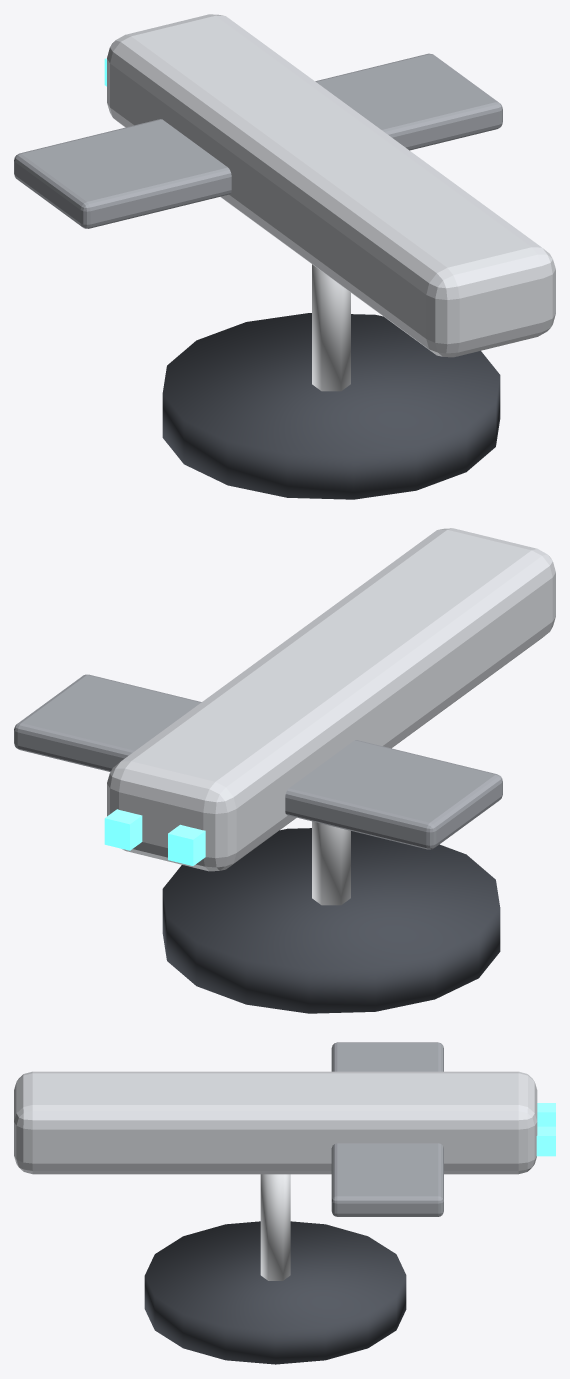
Rendered from ship_model_cruiser.glb.
The picture shows the model from 3 angles, top to bottom: view 1: azimuth 30°, elevation 25°; view 2: azimuth 150°, elevation 25°; view 3: azimuth 270°, elevation 25°; orthographic projection. The views are drawn at different scales.
Visible parts, largest first — view 1: GD_ship_model_cruiser__m2, GD_ship_model_cruiser__m0, GD_ship_model_cruiser__m3, GD_ship_model_cruiser__m1; view 2: GD_ship_model_cruiser__m2, GD_ship_model_cruiser__m0, GD_ship_model_cruiser__m3, GD_ship_model_cruiser__m1, GD_ship_model_cruiser__m4; view 3: GD_ship_model_cruiser__m2, GD_ship_model_cruiser__m0, GD_ship_model_cruiser__m3, GD_ship_model_cruiser__m1, GD_ship_model_cruiser__m4.
Boxes of the visible parts, left/top/right/bottom form: GD_ship_model_cruiser__m2: left=107, top=14, right=555, bottom=357; GD_ship_model_cruiser__m0: left=162, top=313, right=500, bottom=499; GD_ship_model_cruiser__m3: left=14, top=53, right=502, bottom=228; GD_ship_model_cruiser__m1: left=312, top=264, right=350, bottom=391; GD_ship_model_cruiser__m2: left=107, top=528, right=555, bottom=871; GD_ship_model_cruiser__m0: left=162, top=828, right=500, bottom=1013; GD_ship_model_cruiser__m3: left=14, top=674, right=502, bottom=849; GD_ship_model_cruiser__m1: left=312, top=821, right=350, bottom=905; GD_ship_model_cruiser__m4: left=104, top=809, right=205, bottom=865; GD_ship_model_cruiser__m2: left=14, top=1071, right=537, bottom=1174; GD_ship_model_cruiser__m0: left=144, top=1221, right=406, bottom=1364; GD_ship_model_cruiser__m3: left=331, top=1042, right=443, bottom=1216; GD_ship_model_cruiser__m1: left=260, top=1174, right=290, bottom=1280; GD_ship_model_cruiser__m4: left=536, top=1103, right=555, bottom=1156.
Size of the model in its own units: 0.2 by 0.13 by 0.29.
